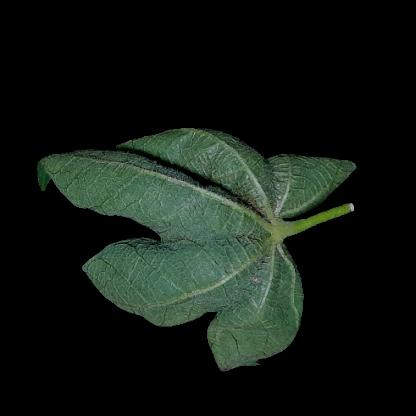curl_stage2: (158, 194, 256, 285), (213, 253, 295, 313), (250, 161, 343, 206), (128, 135, 185, 205), (179, 138, 247, 194), (220, 304, 290, 356), (55, 151, 129, 199), (100, 247, 152, 300), (147, 282, 205, 328)
